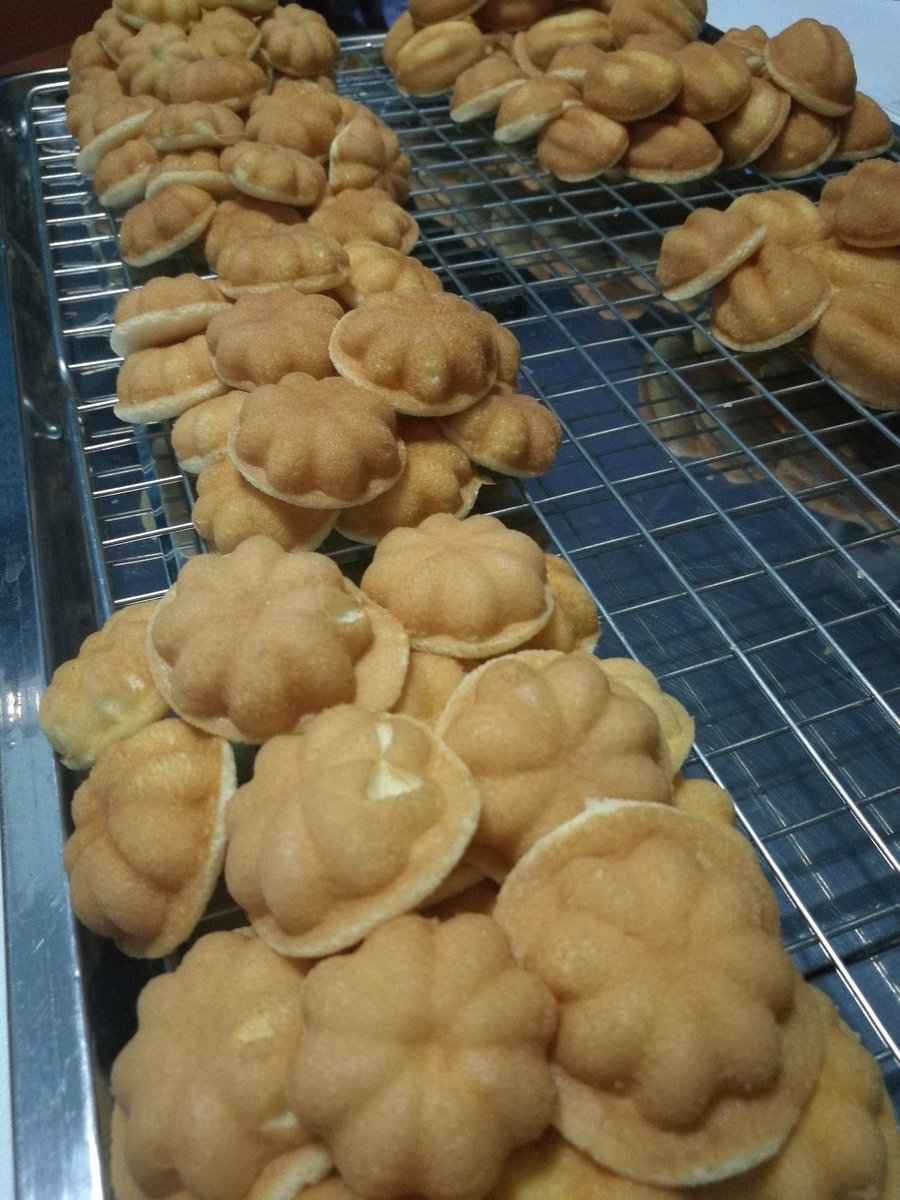kanomkai: (496, 786, 832, 1182), (196, 682, 489, 964), (141, 529, 420, 766), (650, 189, 841, 411), (221, 370, 430, 527), (336, 279, 521, 430), (195, 270, 370, 398)
